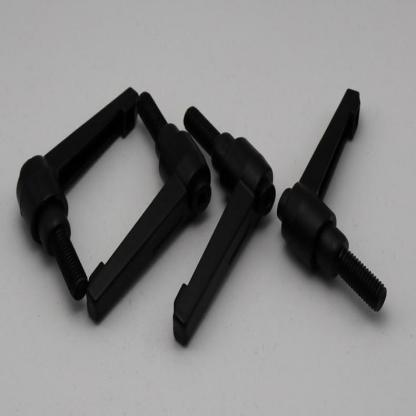FOD: (24, 180, 86, 298)
